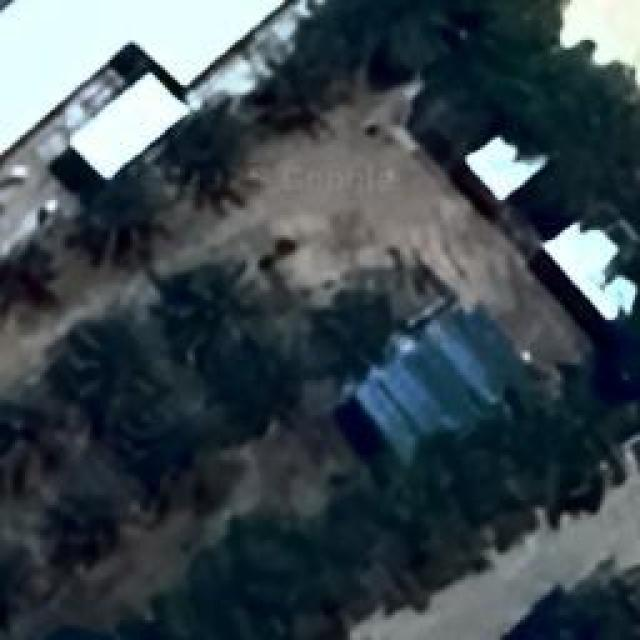PalmTree: (26, 85, 99, 438), (56, 325, 152, 420), (165, 112, 268, 200), (328, 492, 416, 592), (31, 491, 119, 579), (220, 350, 308, 428), (84, 174, 166, 256), (518, 587, 640, 640), (121, 426, 224, 486), (168, 265, 246, 343), (0, 235, 60, 305), (0, 534, 35, 628)
